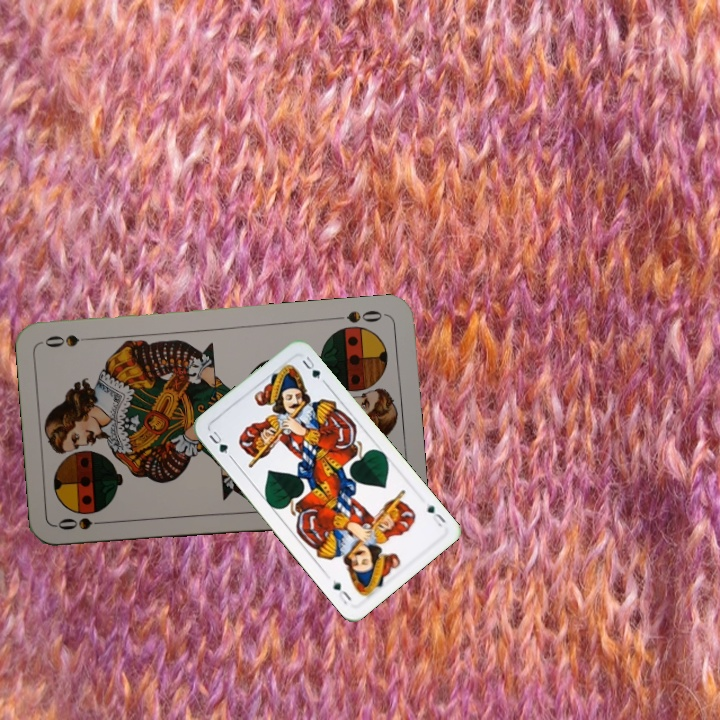GU: (423, 500, 449, 530), (205, 427, 231, 456)
SO: (54, 513, 113, 533), (329, 306, 388, 326)
